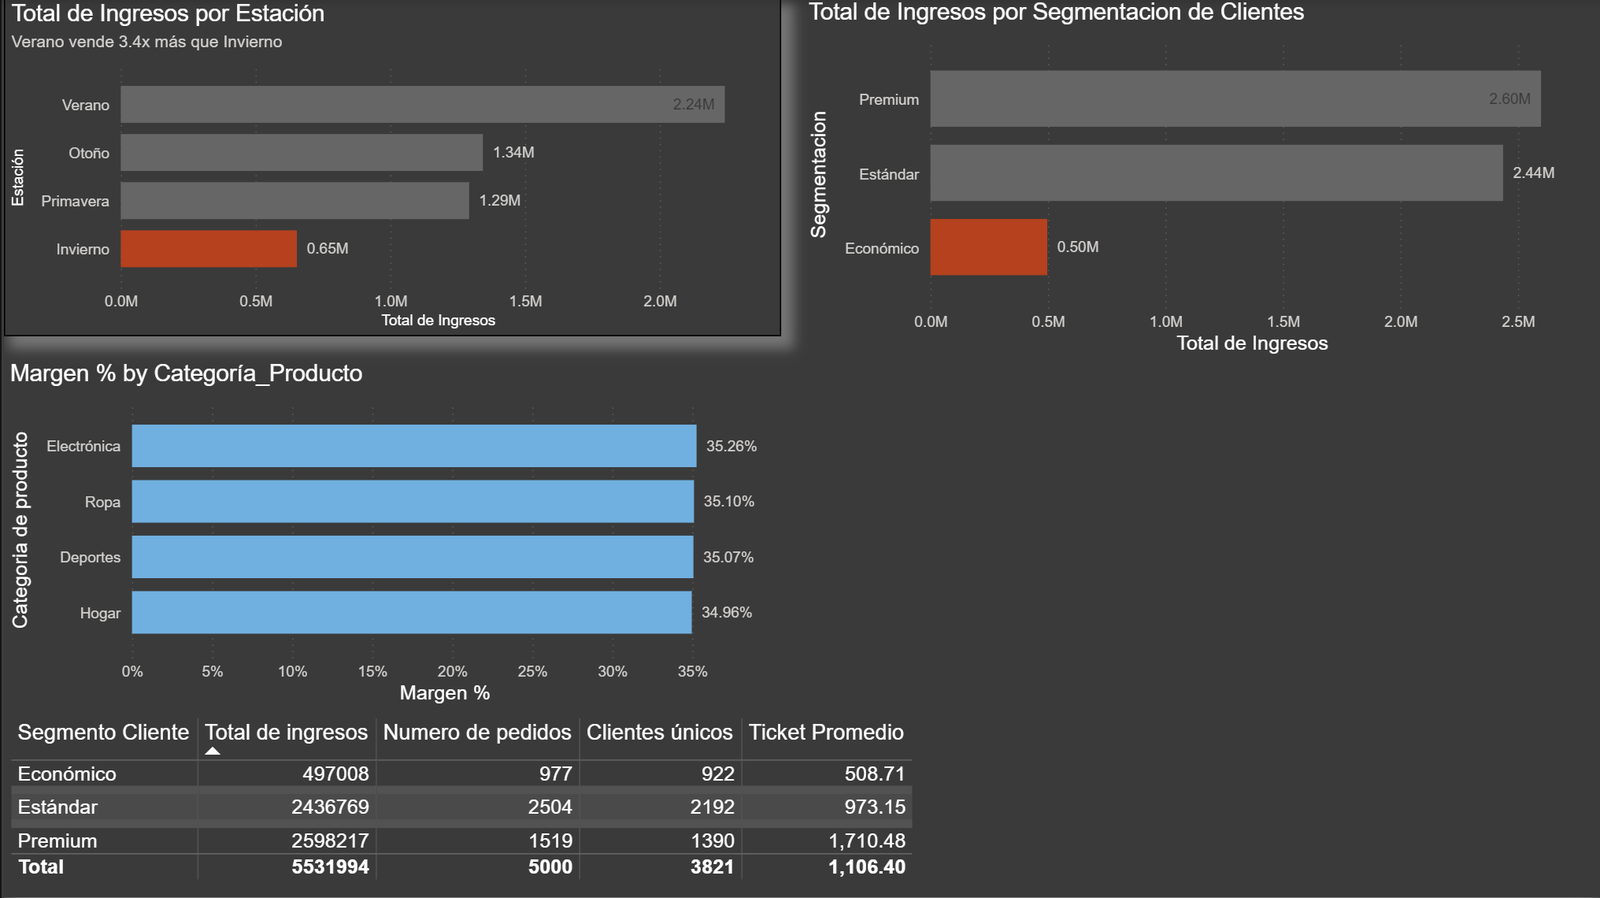

The page's visual inventory and layout, read from the dashboard file:
{"tool":"powerbi","page":{"name":"Detalle","canvas":[1280,720],"ordinal":1},"visuals":[{"type":"clusteredBarChart","fields":{"Y":["Andes_Retail_Group_2024_2025.Margen %"],"Category":["Andes_Retail_Group_2024_2025.Categoría_Producto"]},"box":[0,289.7,623,280.2],"z":0},{"type":"clusteredBarChart","title":"Total de Ingresos por Segmentacion de Clientes","fields":{"Category":["Andes_Retail_Group_2024_2025.Segmento_Cliente"],"Y":["Sum(Andes_Retail_Group_2024_2025.Ingresos)"]},"box":[640,0,638.1,289.7],"z":1000},{"type":"tableEx","fields":{"Values":["Andes_Retail_Group_2024_2025.Segmento_Cliente","Sum(Andes_Retail_Group_2024_2025.Ingresos)","Andes_Retail_Group_2024_2025.Numero de pedidos","Andes_Retail_Group_2024_2025.Clientes únicos","Andes_Retail_Group_2024_2025.Ticket Promedio"]},"box":[0,571.8,744.1,147.7],"z":2000},{"type":"clusteredBarChart","title":"Total de Ingresos por Estación","fields":{"Category":["Andes_Retail_Group_2024_2025.Estación"],"Y":["Sum(Andes_Retail_Group_2024_2025.Ingresos)"]},"box":[0,0,623,270.8],"z":3000}]}

Visuals, with their boxes in screenshot pixels (x1, y1, x2, y2), scaled from the page's 1280x720 canvas onto the 1600x898 screenshot:
clusteredBarChart - Andes_Retail_Group_2024_2025.Margen % x Andes_Retail_Group_2024_2025.Categoría_Producto: <region>0, 361, 779, 711</region>
"Total de Ingresos por Segmentacion de Clientes" clusteredBarChart: <region>800, 0, 1598, 361</region>
tableEx - Andes_Retail_Group_2024_2025.Segmento_Cliente x Sum(Andes_Retail_Group_2024_2025.Ingresos): <region>0, 713, 930, 897</region>
"Total de Ingresos por Estación" clusteredBarChart: <region>0, 0, 779, 338</region>
